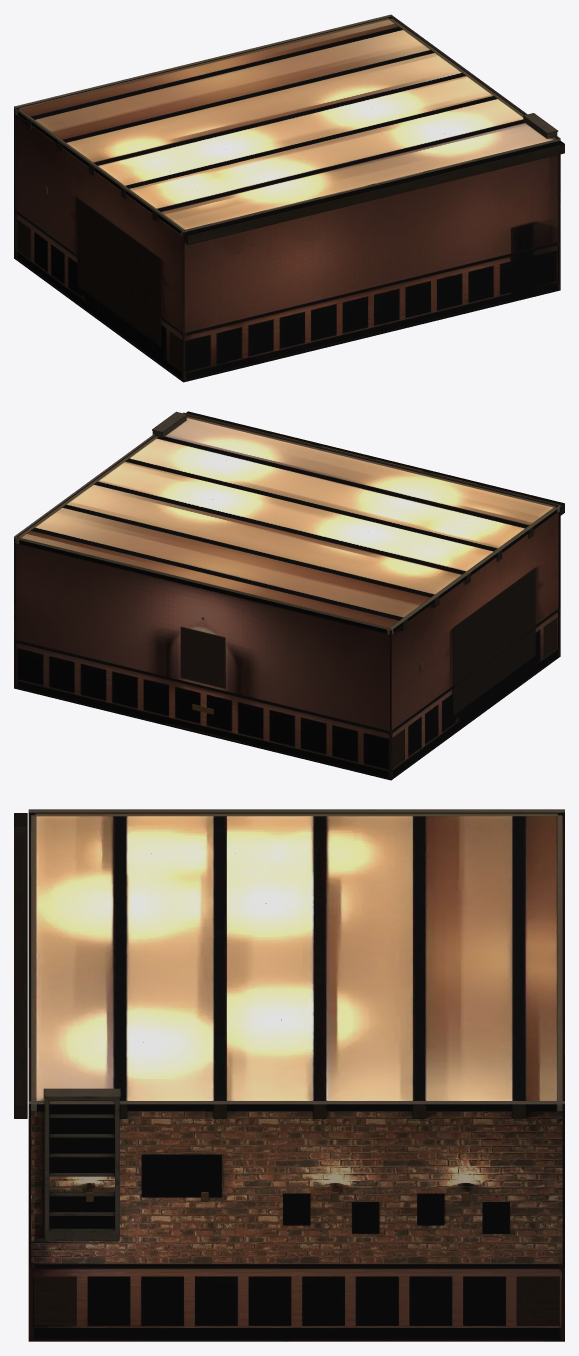
File: pub2.glb
3 renders of one model, top to bottom at view 1: azimuth 30°, elevation 25°; view 2: azimuth 150°, elevation 25°; view 3: azimuth 270°, elevation 25°, orthographic. The views are drawn at different scales.
Visible parts, largest first — view 1: bake_ceil, bake_wallB, bake_wallL, bake_bar, bake_wallF, bake_wallR, bake_floor, bake_props; view 2: bake_ceil, bake_wallF, bake_wallL, bake_bar, bake_board, bake_wallB, bake_wallR, bake_floor, bake_props; view 3: bake_ceil, bake_wallR, bake_wallB, bake_props, bake_wallF, bake_wallL, bake_floor.
Boxes of the visible parts, x1,y1,x2,y2 form: bake_ceil: (14,14,564,245); bake_wallB: (169,139,558,380); bake_wallL: (16,109,187,381); bake_bar: (77,198,160,345); bake_wallF: (14,16,391,259); bake_wallR: (389,17,560,290); bake_floor: (14,258,560,382); bake_props: (45,113,558,194); bake_ceil: (14,411,564,630); bake_wallF: (16,537,404,779); bake_wallL: (387,507,558,779); bake_bar: (452,568,535,715); bake_board: (180,626,225,714); bake_wallB: (186,415,560,657); bake_wallR: (14,435,158,688); bake_floor: (14,656,560,780); bake_props: (152,411,423,670); bake_ceil: (14,809,564,1118); bake_wallR: (31,1104,562,1339); bake_wallB: (28,812,76,1339); bake_props: (43,853,469,1240); bake_wallF: (516,812,564,1339); bake_wallL: (31,812,562,816); bake_floor: (28,1340,564,1341).
Bounding box in the file's own units: 9.06 × 3.55 × 7.19.
Materials: 11 (11 with a texture image).
